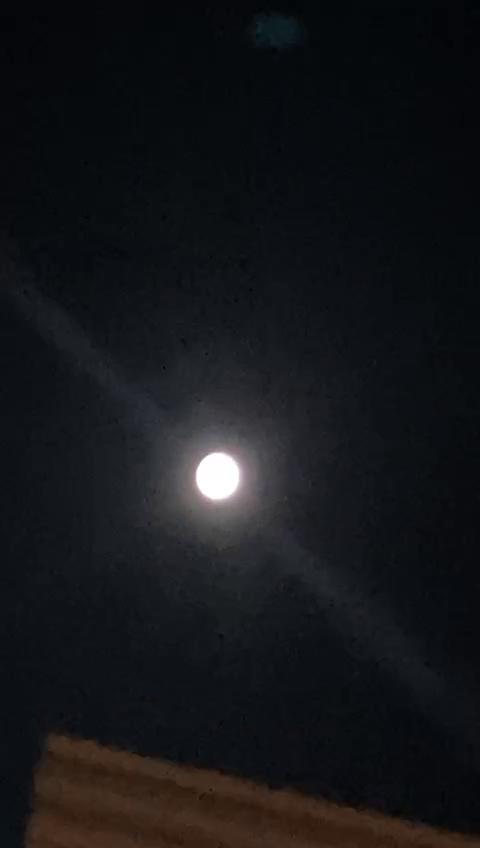moon: (183, 441, 250, 517)
